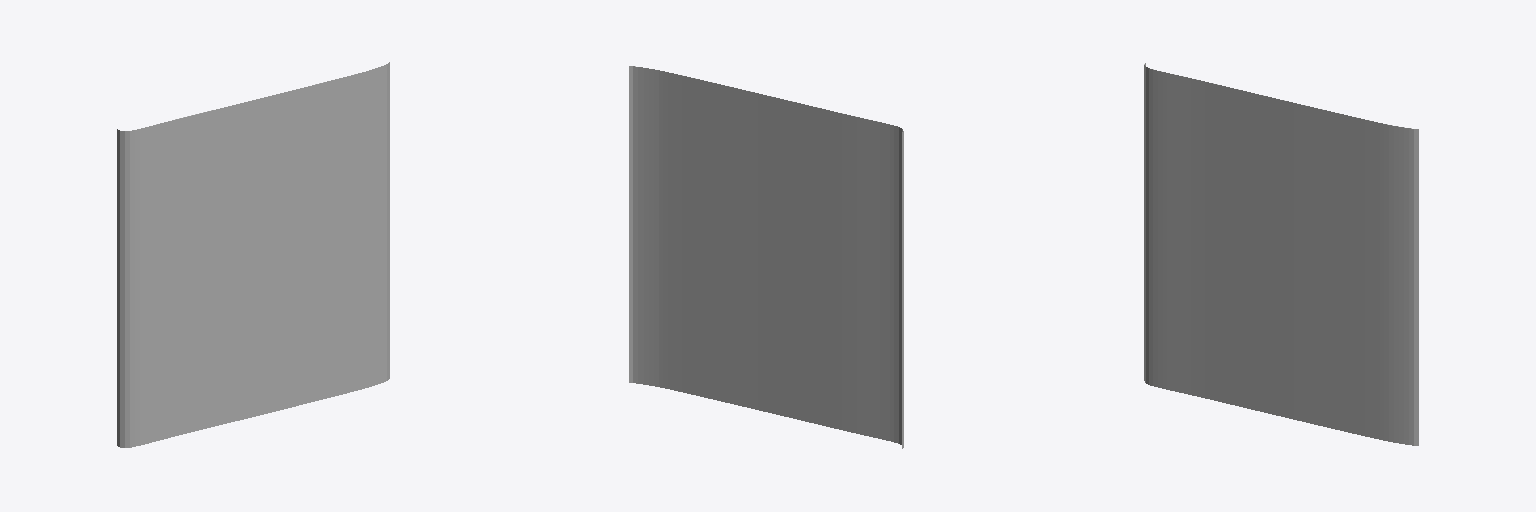
The model's file is paper1.obj.
3 views of the same model, side by side, from view 1: azimuth 30°, elevation 25°; view 2: azimuth 150°, elevation 25°; view 3: azimuth 330°, elevation 25° (orthographic).
Parts seen in each view (by area): view 1: Object__0; view 2: Object__0; view 3: Object__0.
Part boxes in pixels (x1,y1,x2,y2): Object__0: (117,62,389,447); Object__0: (629,66,903,448); Object__0: (1144,63,1418,445).
Size of the model in its own units: 0.92 by 1.02 by 0.0349.